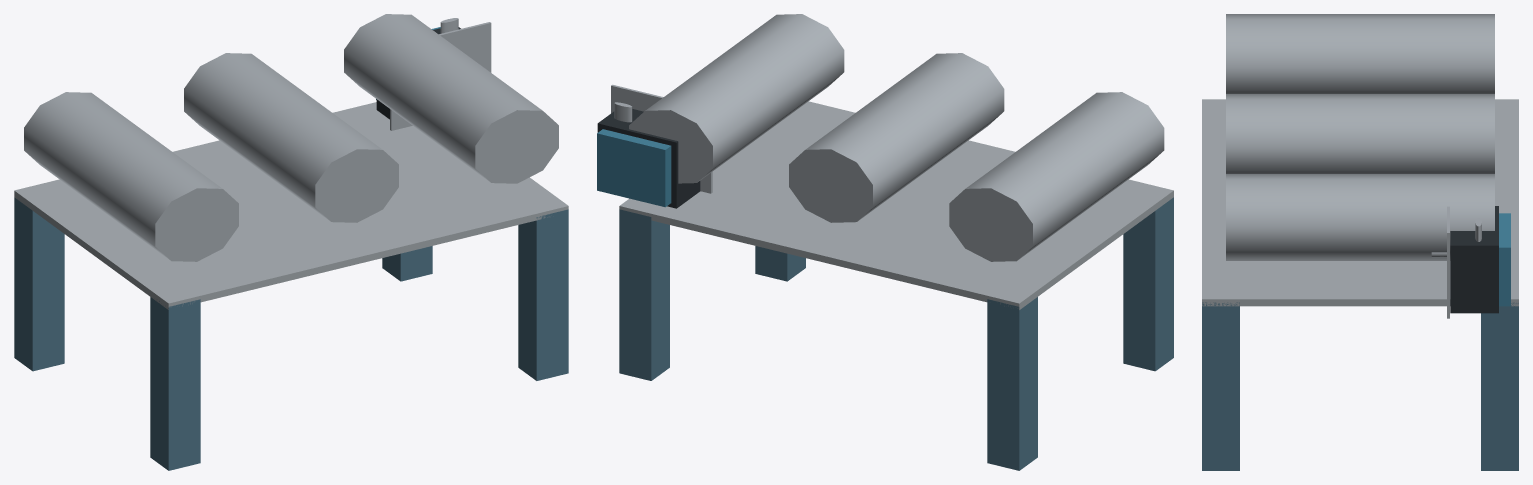
3 views of the same model, side by side, from view 1: azimuth 30°, elevation 25°; view 2: azimuth 150°, elevation 25°; view 3: azimuth 270°, elevation 25° (orthographic). The views are drawn at different scales.
Visible parts, largest first — view 1: g4, g0.003, g0.002, g0.004, g1, g3.001, g0, g1.001, g2; view 2: g4, g0.003, g0.004, g0.002, g0, g2, g1, g3, g0.001, g3.001, g1.001; view 3: g0.002, g0.003, g0.004, g4, g3.001, g2, g0.001, g3, g1.001.
Boxes of the visible parts, x1,y1,x2,y2 form: g4: [14, 102, 568, 309]; g0.003: [24, 92, 238, 261]; g0.002: [344, 14, 558, 183]; g0.004: [184, 53, 398, 222]; g1: [150, 297, 200, 470]; g3.001: [518, 209, 568, 380]; g0: [14, 197, 64, 371]; g1.001: [390, 22, 491, 130]; g2: [382, 246, 432, 281]; g4: [619, 101, 1173, 309]; g0.003: [949, 92, 1164, 261]; g0.004: [789, 53, 1004, 222]; g0.002: [629, 14, 844, 183]; g0: [987, 297, 1037, 470]; g2: [619, 209, 669, 380]; g1: [1123, 197, 1173, 371]; g3: [597, 129, 671, 207]; g0.001: [597, 109, 700, 208]; g3.001: [755, 246, 805, 281]; g1.001: [611, 84, 712, 193]; g0.002: [1226, 174, 1494, 260]; g0.003: [1226, 14, 1494, 93]; g0.004: [1226, 94, 1494, 173]; g4: [1202, 99, 1518, 306]; g3.001: [1202, 302, 1239, 470]; g2: [1481, 302, 1518, 470]; g0.001: [1450, 206, 1498, 313]; g3: [1499, 213, 1510, 306]; g1.001: [1447, 206, 1449, 318].
Size of the model in its own units: 2.99 by 1.7 by 1.8.
